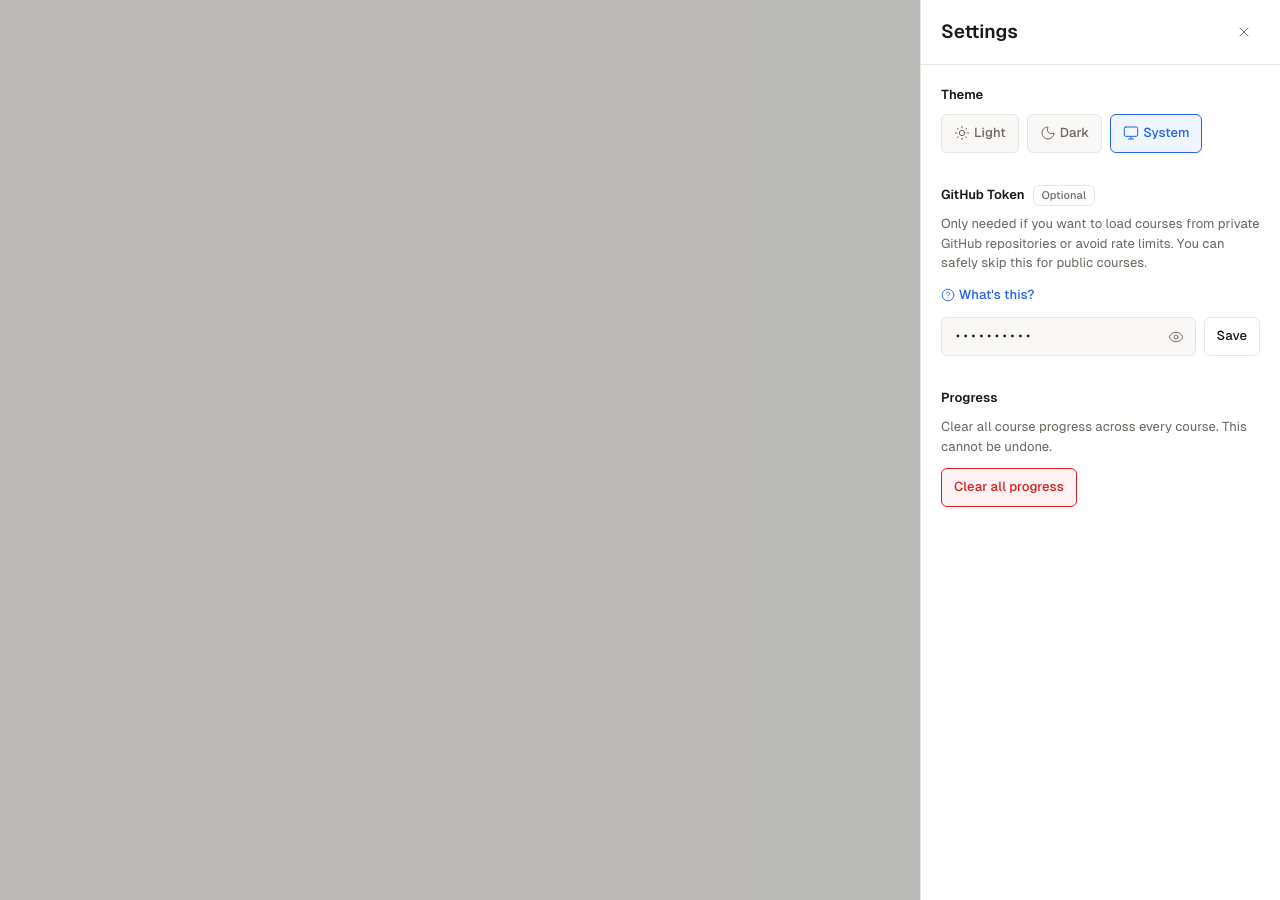
Test case: SettingsPanel › GitHub token input › reveals the token when show toggle is clicked
expect the password field with placeholder "ghp_..." is shown: met, box x1=941 y1=318 x2=1196 y2=356
Click the button named "Show token" at x=1176, y=337, box x1=1164 y1=325 x2=1188 y2=349
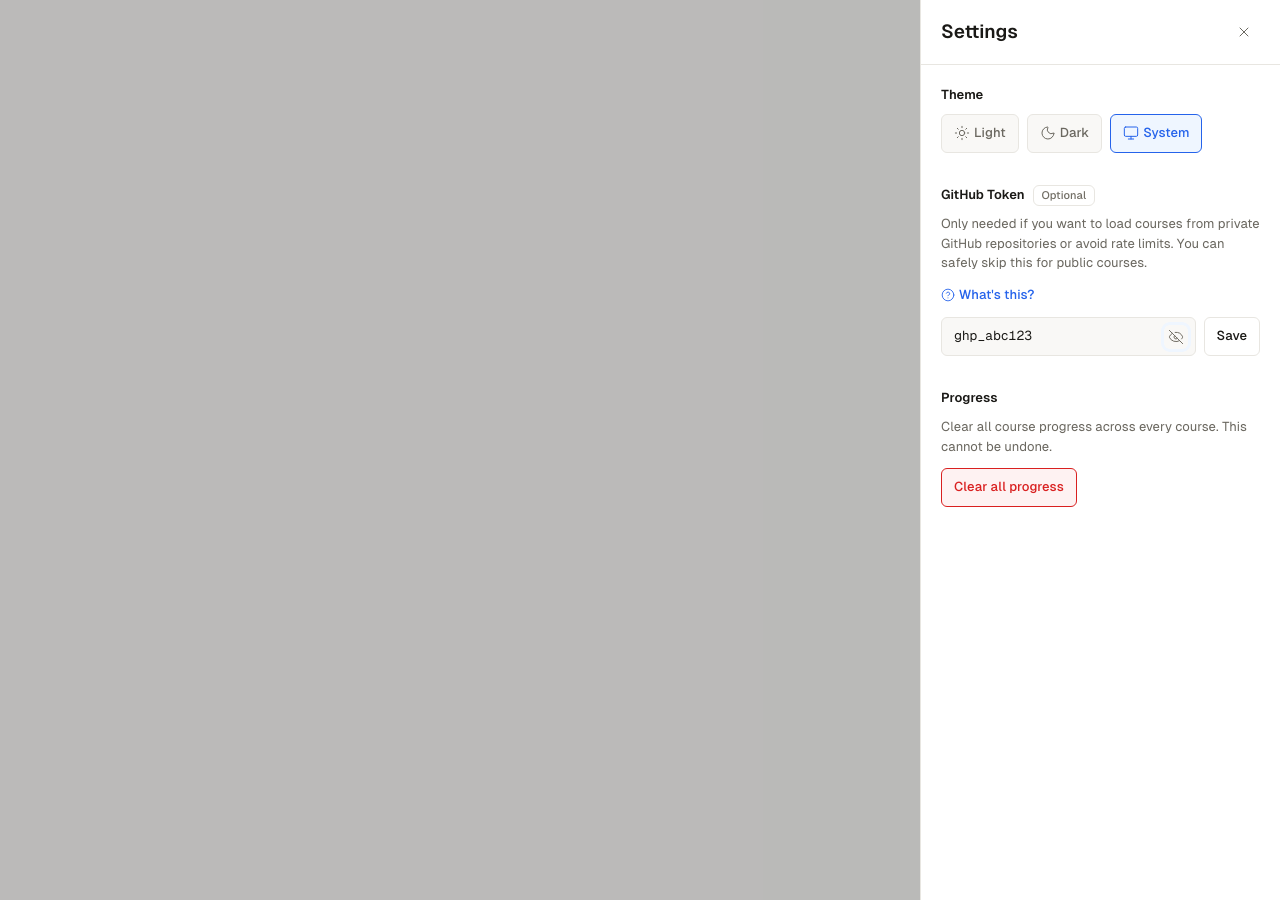
expect the field with placeholder "ghp_..." shows its text: met, box x1=941 y1=318 x2=1196 y2=356
